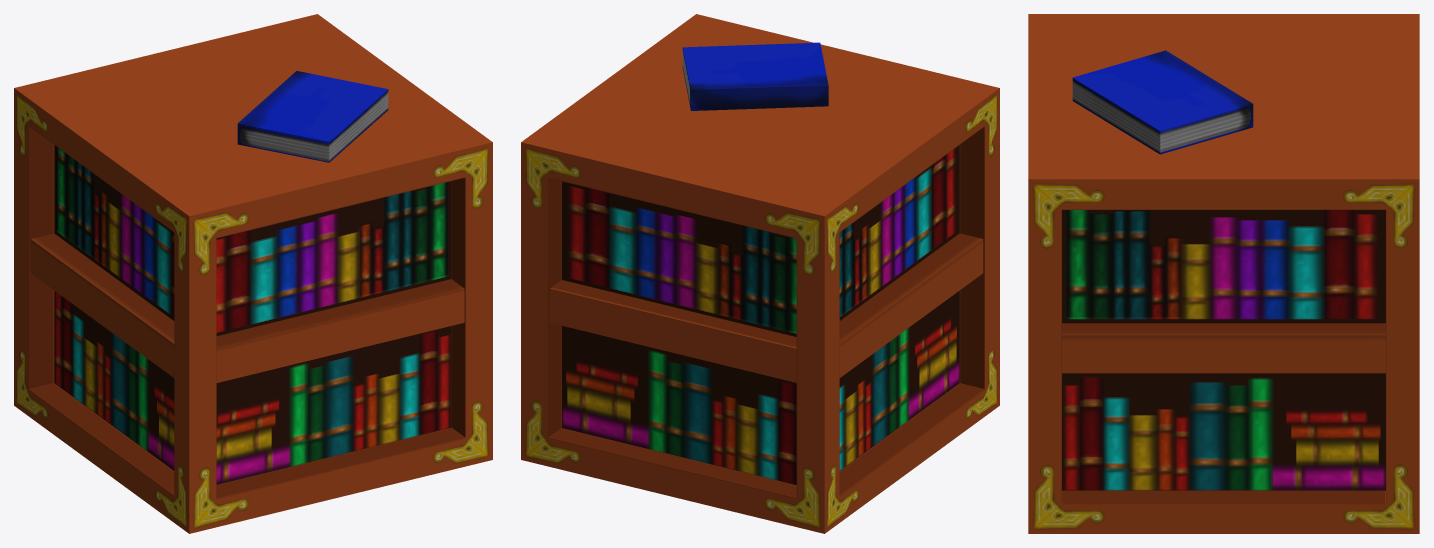
File: Estante.fbx
3 views of the same model, side by side, from view 1: azimuth 30°, elevation 25°; view 2: azimuth 150°, elevation 25°; view 3: azimuth 270°, elevation 25° (orthographic). The views are drawn at different scales.
Parts seen in each view (by area): view 1: Estante; view 2: Estante; view 3: Estante.
Boxes of the visible parts, box(x1,y1,x2,y2) form: Estante: box(14, 14, 492, 533); Estante: box(521, 14, 999, 533); Estante: box(1028, 14, 1419, 533).
Size of the model in its own units: 200 by 213 by 200.
